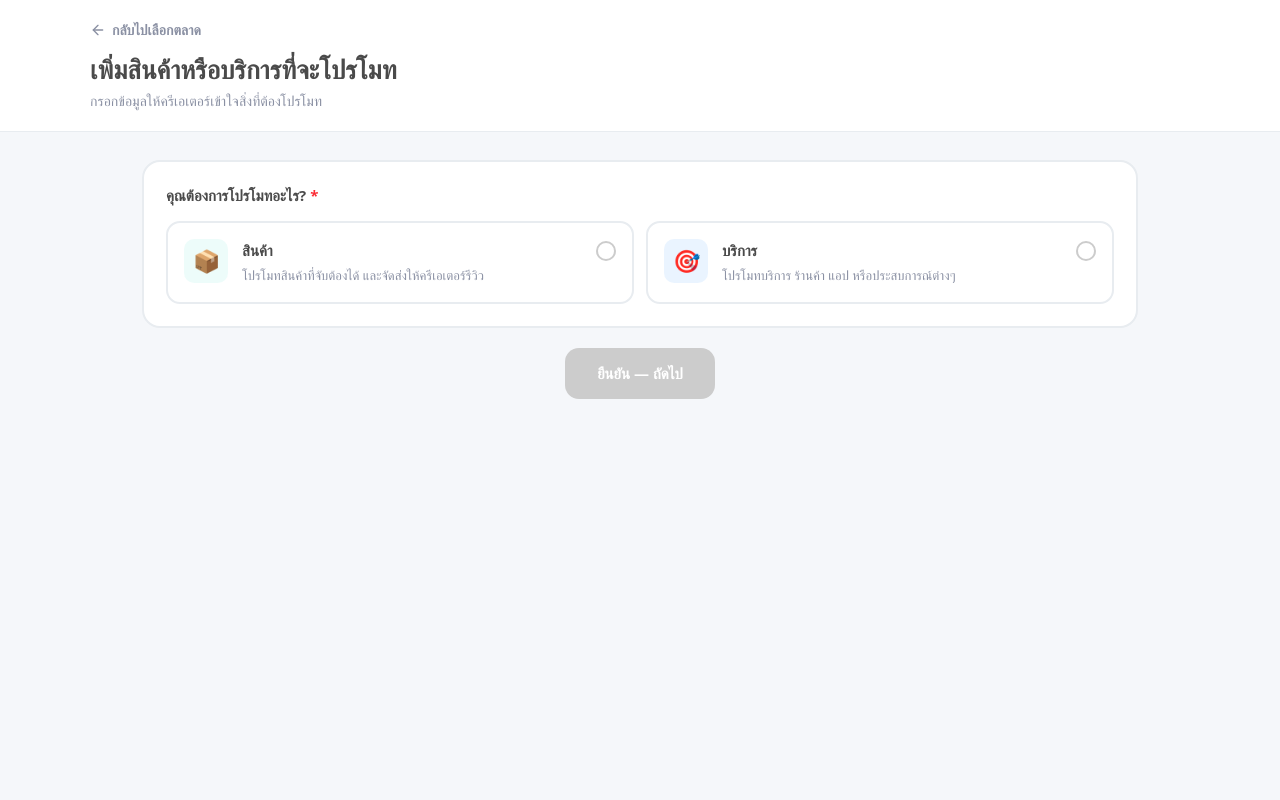
it: AddProductPage › image upload area is present
The width and height of the screenshot is (1280, 800).
Step 1. Click the button "สินค้า" → point(206, 260), box [166, 220, 634, 304]
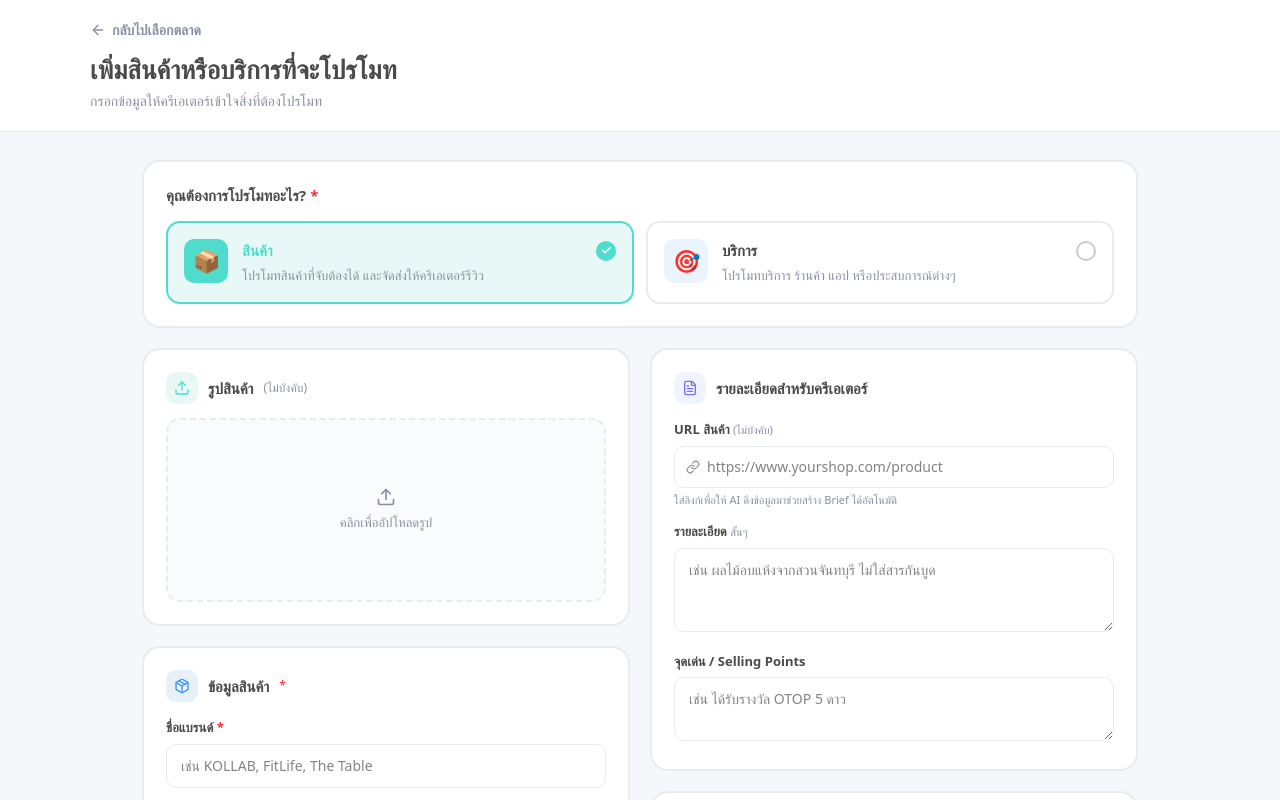
Now the text "คลิกเพื่ออัปโหลดรูป" is shown, box [340, 513, 432, 533]
